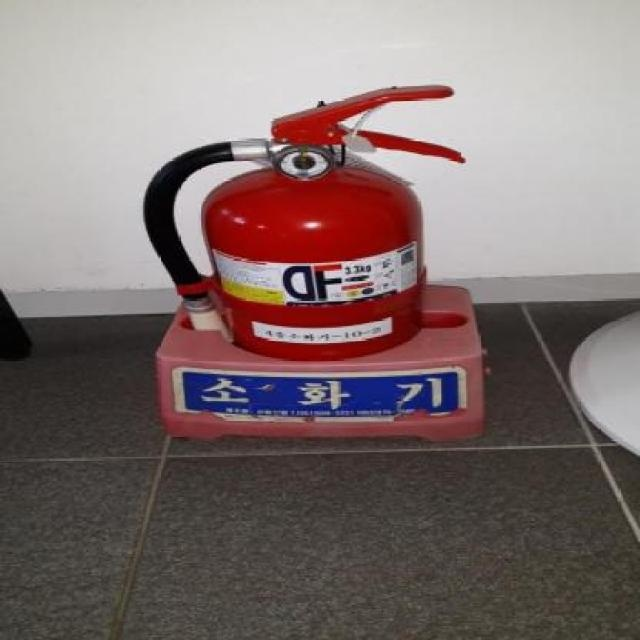fire extinguisher: (143, 85, 468, 360)
